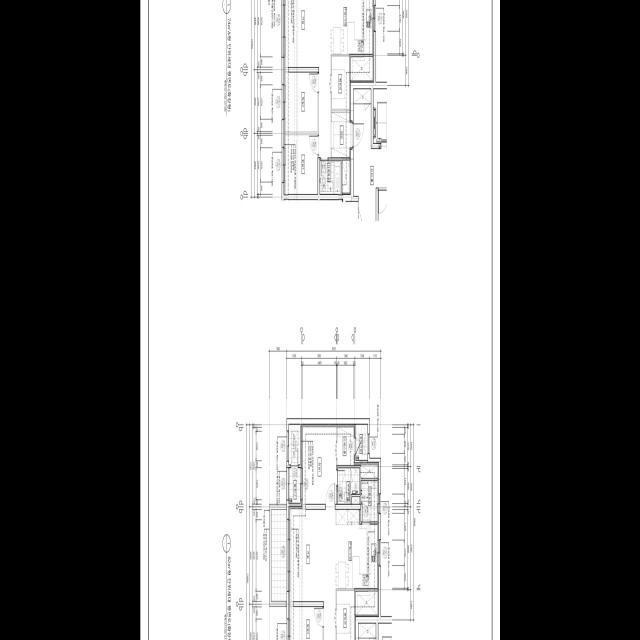background: (140, 0, 500, 640)
space_balconi: (289, 468, 300, 503)
space_bedroom: (301, 425, 336, 504), (289, 607, 322, 640)
space_dressroom: (337, 425, 354, 465)
space_elevator: (373, 89, 386, 143), (378, 624, 391, 640)
space_elevator_hall: (353, 104, 386, 220)
space_front: (330, 112, 352, 158)
space_kitchen: (335, 510, 378, 589), (330, 0, 373, 54)
space_living_room: (284, 0, 331, 158), (289, 506, 335, 640)
space_multipurpose_space: (284, 135, 317, 195), (284, 72, 317, 132), (360, 481, 378, 522)
space_other: (331, 56, 350, 109), (336, 591, 355, 640), (355, 591, 378, 616), (350, 57, 373, 82), (289, 425, 300, 465), (342, 160, 350, 194), (360, 463, 378, 478), (353, 89, 371, 103), (358, 624, 375, 638), (352, 497, 359, 504)
space_outdoor_room: (355, 425, 367, 460)
space_toilet: (337, 468, 359, 504), (320, 161, 341, 194)
